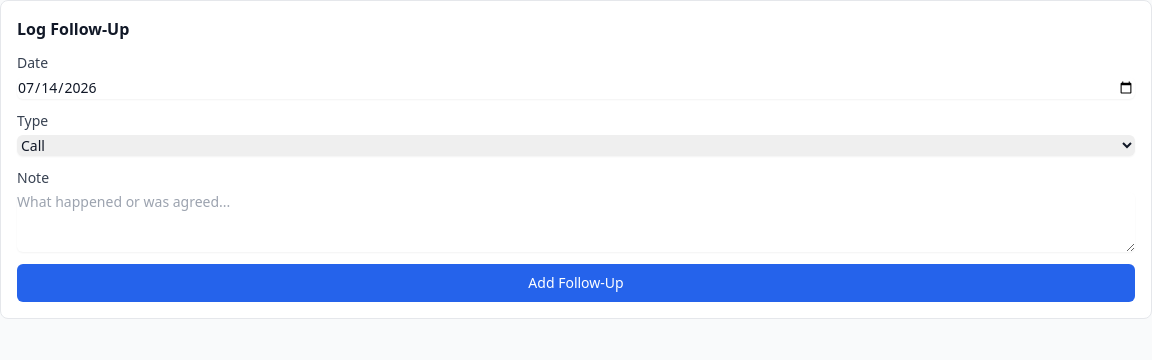
Scenario: FollowUpForm › Validation › shows error when note is empty on submit
This screenshot has width=1152, height=360.
Click the button "Add Follow-Up" at (576, 283), box [17, 264, 1135, 302]
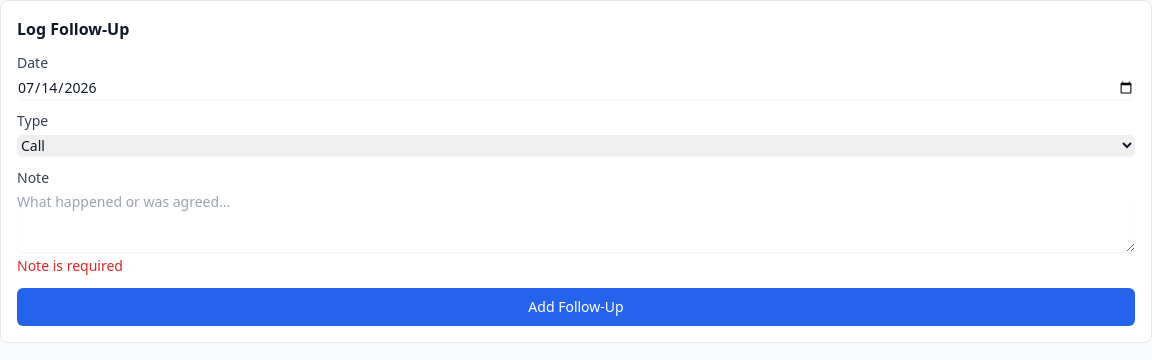
Expected: the text "Note is required" is shown, [17, 256, 123, 275]
